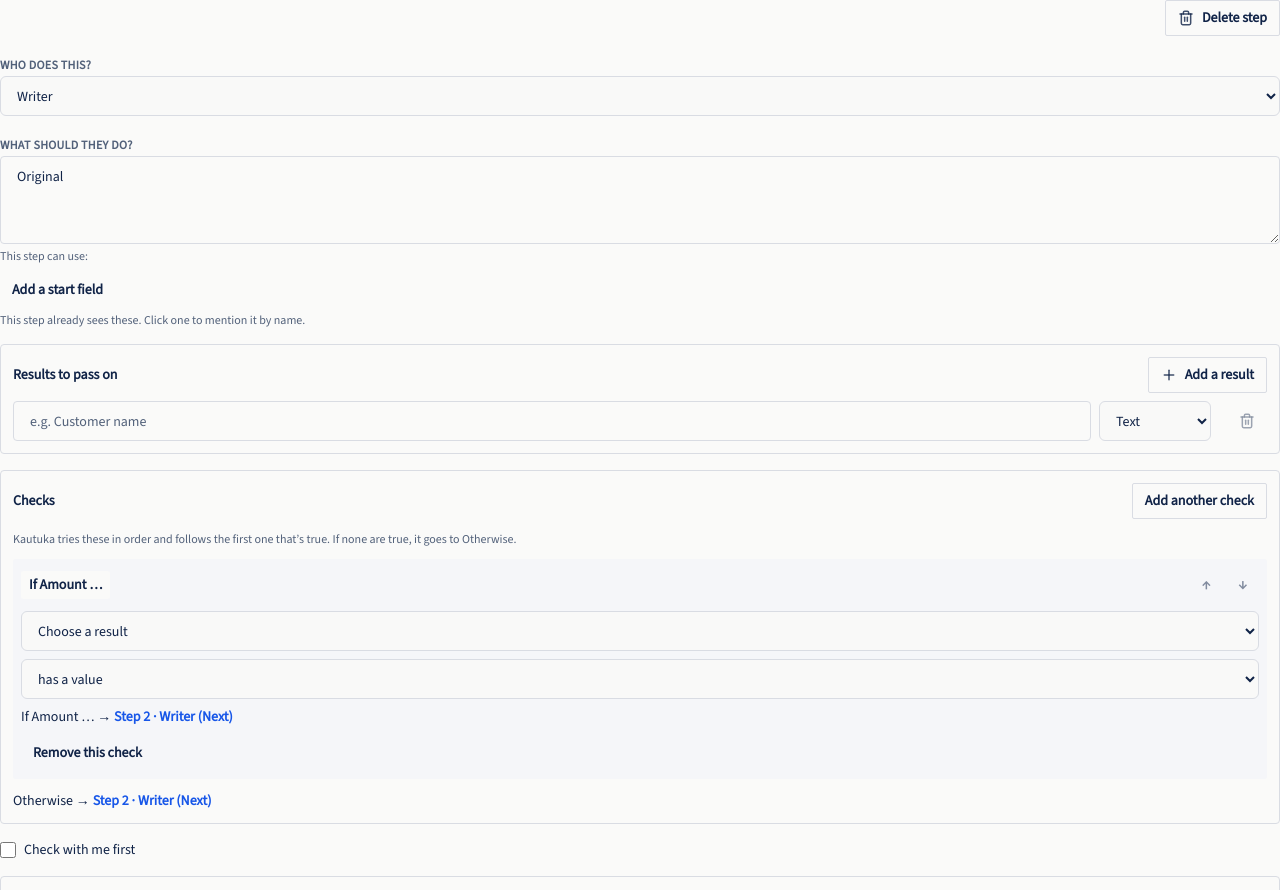
Test: WorkflowStepSettings delete plan › keeps edits made after opening the delete plan when confirmed
Click the button "Remove this check": (87, 753) 21,735 -> 154,771
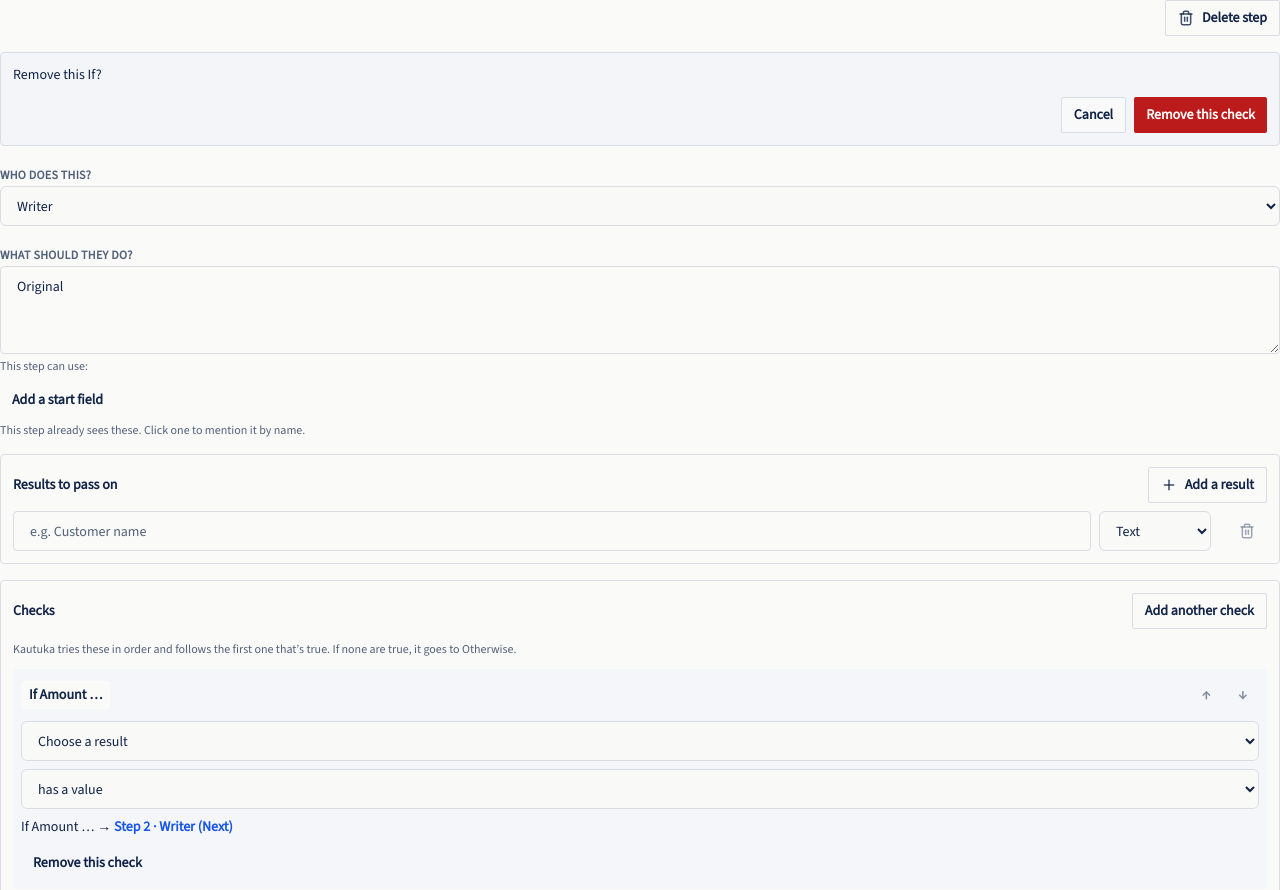
Replace the text in the text box labelled "What should they do?" with "Updated instructions": (640, 310) 0,266 -> 1279,354
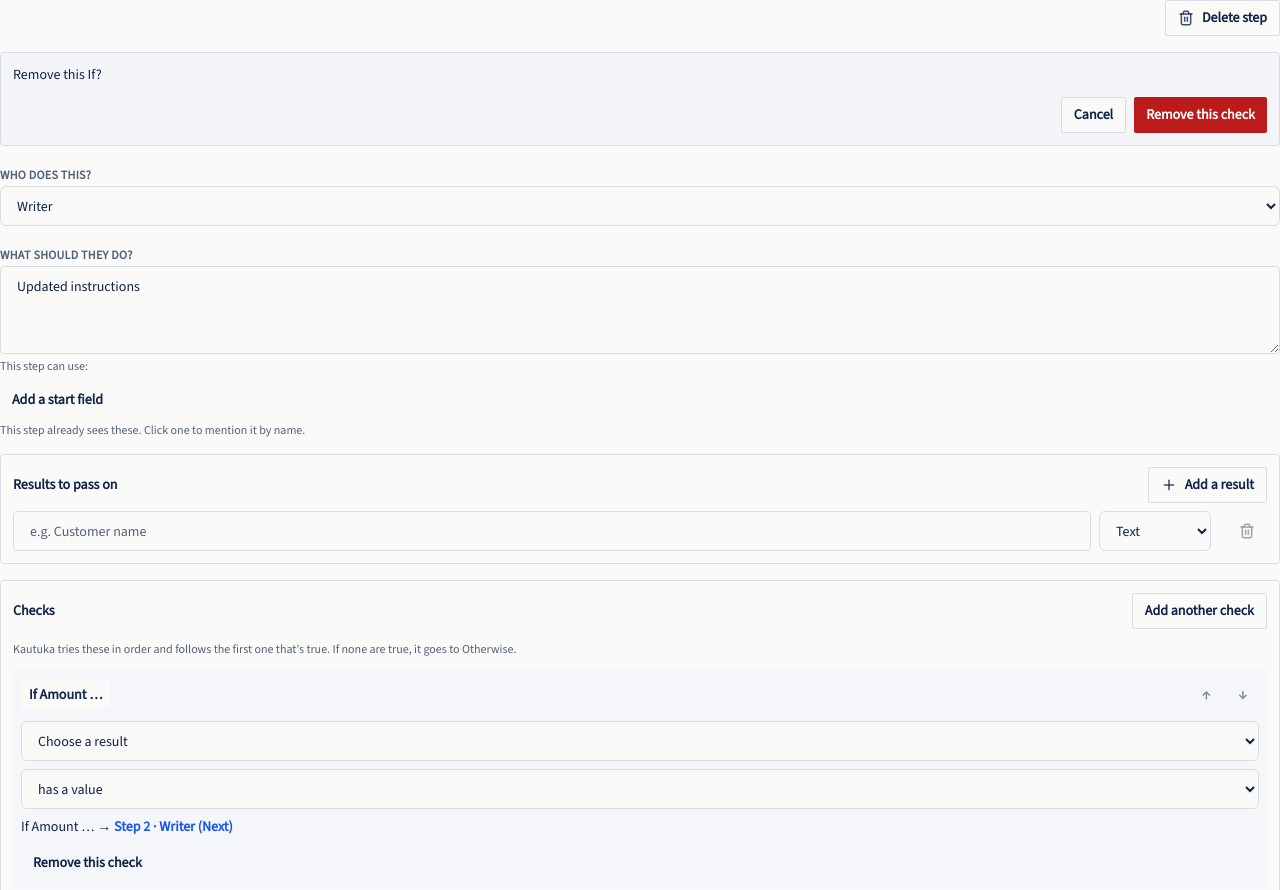
Click the 1st button "Remove this check": (1201, 115) 1134,97 -> 1267,133
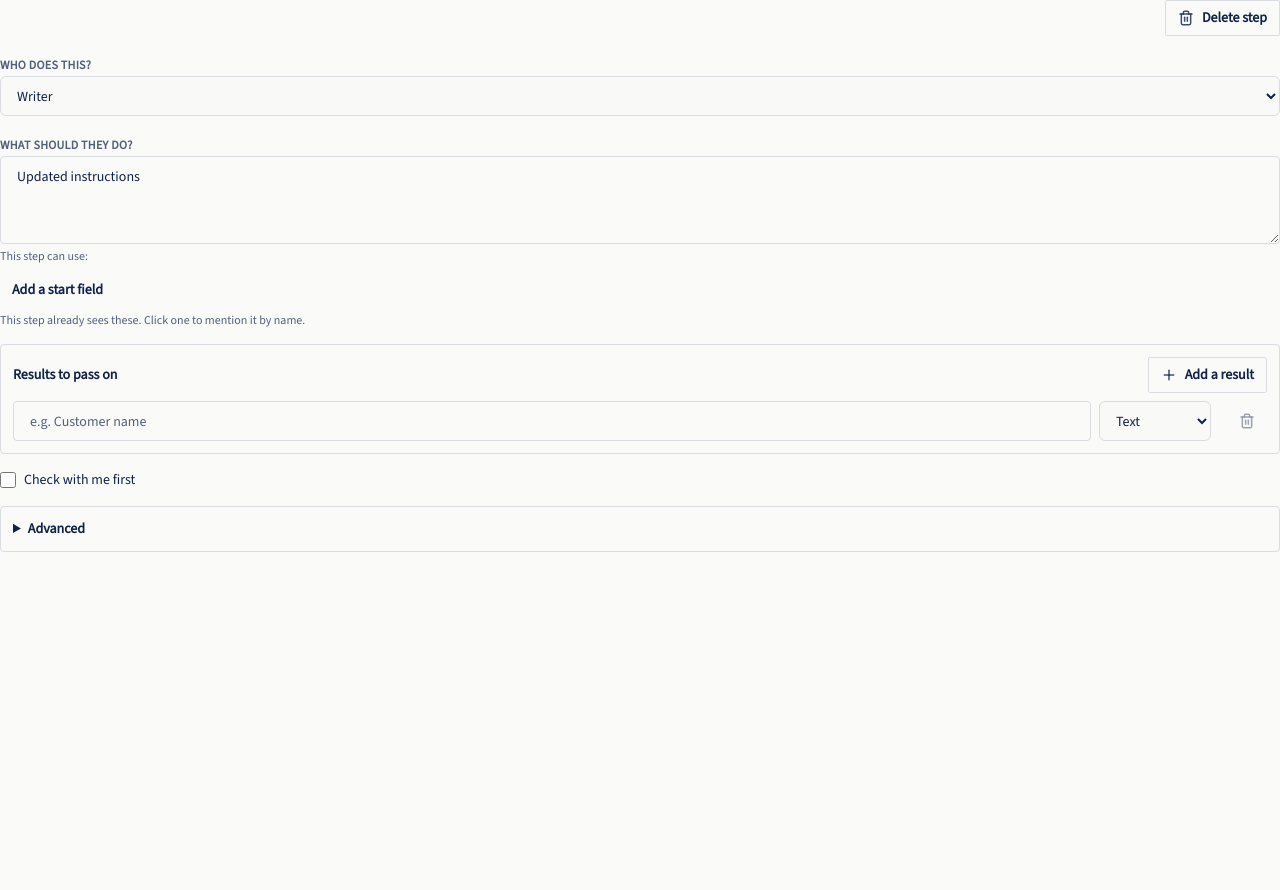
expect the dialog is gone: met
